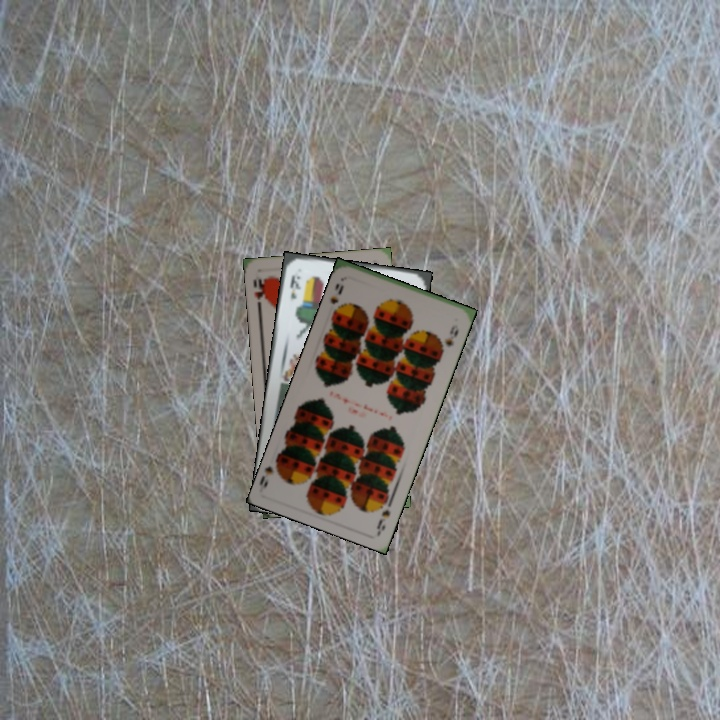EK: (286, 271, 303, 301)
HO: (249, 274, 269, 313)
S9: (372, 495, 395, 534), (326, 281, 346, 316)
